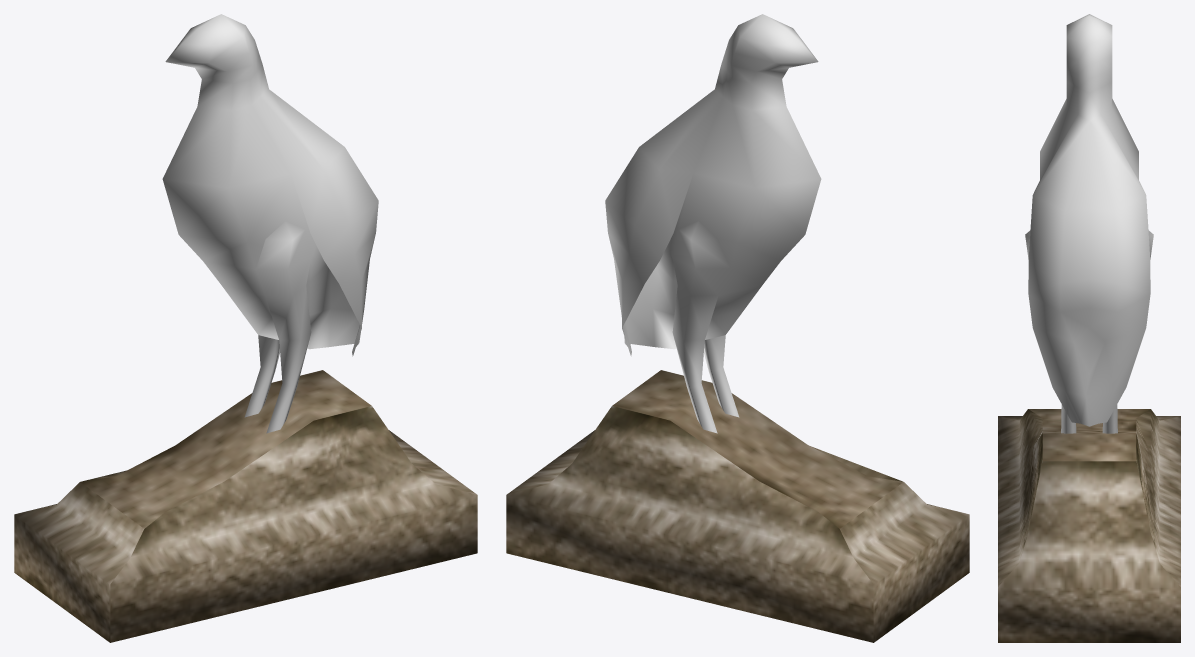
Rendered from EstatuaFalcao.fbx.
3 renders of one model, left to right at view 1: azimuth 30°, elevation 25°; view 2: azimuth 150°, elevation 25°; view 3: azimuth 270°, elevation 25°, orthographic. The views are drawn at different scales.
Visible parts, largest first — view 1: EstatuaFalcao; view 2: EstatuaFalcao; view 3: EstatuaFalcao.
Boxes of the visible parts, x1,y1,x2,y2 form: EstatuaFalcao: [14, 14, 477, 642]; EstatuaFalcao: [506, 14, 969, 642]; EstatuaFalcao: [998, 14, 1180, 642].
Bounding box in the file's own units: 0.4211 × 0.608 × 0.1903.
